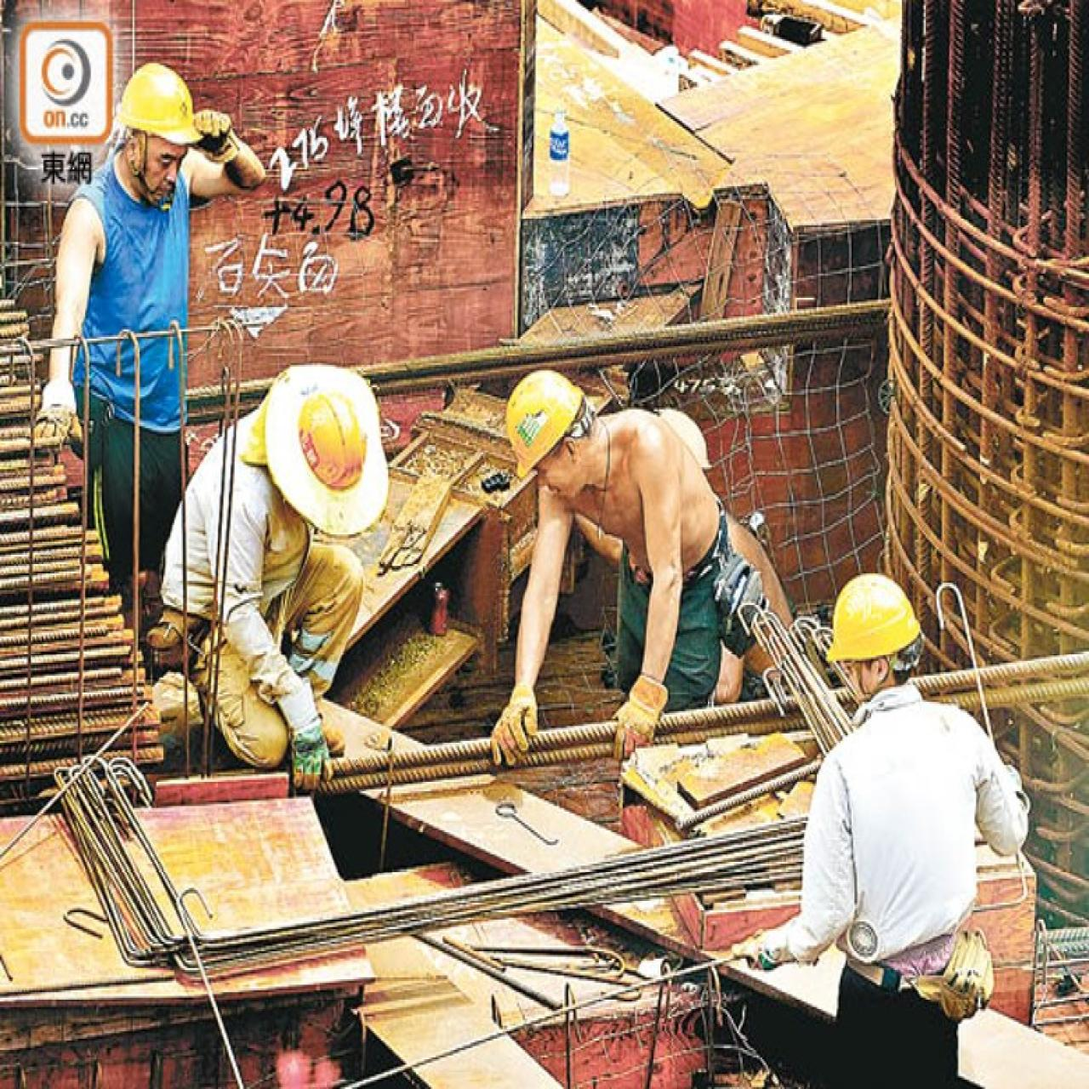NO_Safety_Vest: (813, 703, 986, 956), (67, 174, 196, 427), (158, 414, 312, 622), (577, 393, 731, 580)
Person: (734, 560, 1050, 1089), (33, 50, 271, 608), (134, 345, 423, 790), (487, 350, 753, 775)
